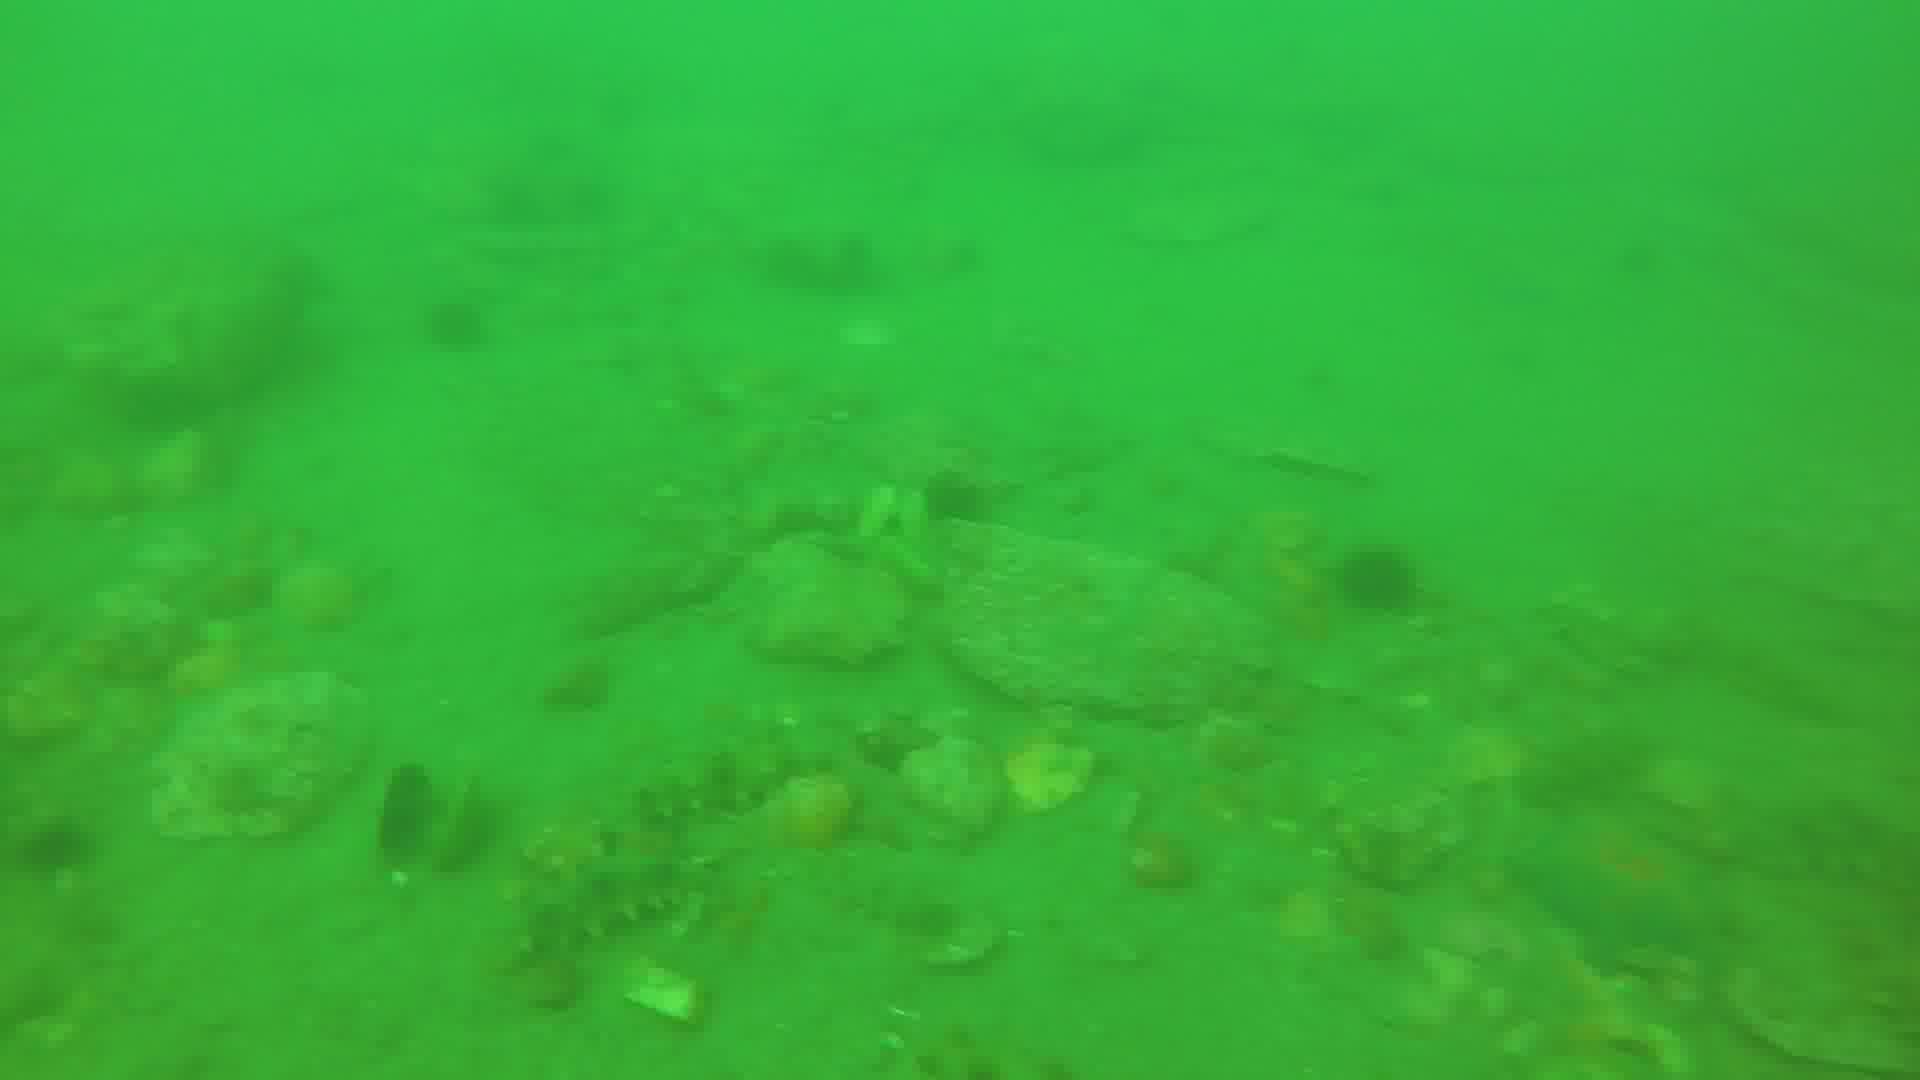echinus: (1324, 539, 1429, 618)
holothurian: (592, 736, 829, 865), (508, 852, 705, 963)
scallop: (372, 765, 492, 887)
starfish: (1523, 804, 1727, 975)
